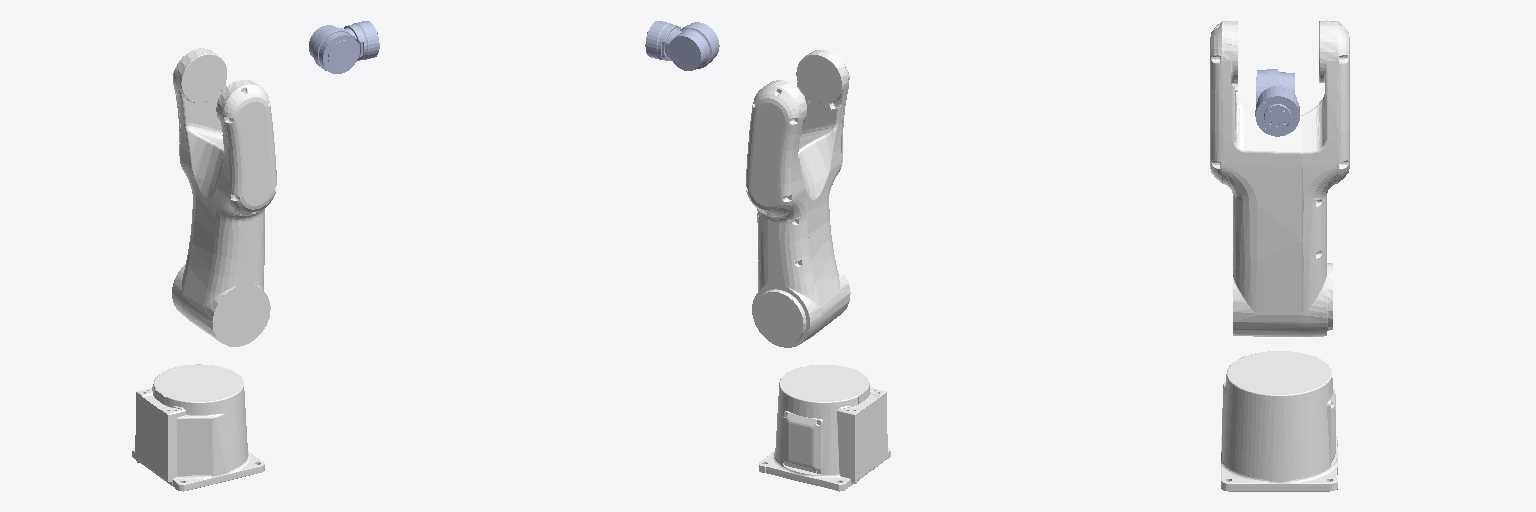
URDF robot description (LR Mate-200iD7LC.SLDASM):
<robot
  name="LR Mate-200iD7LC.SLDASM">
  <link
    name="base_link">
    <inertial>
      <origin
        xyz="-0.0068267 -0.00032171 0.080423"
        rpy="0 0 0" />
      <mass
        value="4.8533E-10" />
      <inertia
        ixx="2.1987E-12"
        ixy="-1.185E-14"
        ixz="1.4301E-14"
        iyy="2.3829E-12"
        iyz="-3.0601E-15"
        izz="2.2801E-12" />
    </inertial>
    <visual>
      <origin
        xyz="0 0 0"
        rpy="0 0 0" />
      <geometry>
        <mesh
          filename="package://LR Mate-200iD7LC.SLDASM/meshes/base_link.stl" />
      </geometry>
      <material
        name="">
        <color
          rgba="1 1 1 1" />
      </material>
    </visual>
    <collision>
      <origin
        xyz="0 0 0"
        rpy="0 0 0" />
      <geometry>
        <mesh
          filename="package://LR Mate-200iD7LC.SLDASM/meshes/base_link.stl" />
      </geometry>
    </collision>
  </link>
  <link
    name="link_1">
    <inertial>
      <origin
        xyz="-5.6272E-17 1.5421E-17 -0.169"
        rpy="0 0 0" />
      <mass
        value="0" />
      <inertia
        ixx="0"
        ixy="0"
        ixz="0"
        iyy="0"
        iyz="0"
        izz="0" />
    </inertial>
    <visual>
      <origin
        xyz="0 0 0"
        rpy="0 0 0" />
      <geometry>
        <mesh
          filename="package://LR Mate-200iD7LC.SLDASM/meshes/link_1.stl" />
      </geometry>
      <material
        name="">
        <color
          rgba="1 1 1 1" />
      </material>
    </visual>
    <collision>
      <origin
        xyz="0 0 0"
        rpy="0 0 0" />
      <geometry>
        <mesh
          filename="package://LR Mate-200iD7LC.SLDASM/meshes/link_1.stl" />
      </geometry>
    </collision>
  </link>
  <joint
    name="joint_1"
    type="revolute">
    <origin
      xyz="0 0 0.169"
      rpy="0 0 0" />
    <parent
      link="base_link" />
    <child
      link="link_1" />
    <axis
      xyz="0 0 1" />
    <limit
      effort="0"
      velocity="0" />
  </joint>
  <link
    name="link_2">
    <inertial>
      <origin
        xyz="0.17556 0.0015476 -0.0096684"
        rpy="0 0 0" />
      <mass
        value="7.9665E-10" />
      <inertia
        ixx="3.5822E-12"
        ixy="8.8459E-14"
        ixz="2.726E-13"
        iyy="1.7474E-11"
        iyz="-9.5863E-15"
        izz="1.957E-11" />
    </inertial>
    <visual>
      <origin
        xyz="0 0 0"
        rpy="0 0 0" />
      <geometry>
        <mesh
          filename="package://LR Mate-200iD7LC.SLDASM/meshes/link_2.stl" />
      </geometry>
      <material
        name="">
        <color
          rgba="1 1 1 1" />
      </material>
    </visual>
    <collision>
      <origin
        xyz="0 0 0"
        rpy="0 0 0" />
      <geometry>
        <mesh
          filename="package://LR Mate-200iD7LC.SLDASM/meshes/link_2.stl" />
      </geometry>
    </collision>
  </link>
  <joint
    name="joint_2"
    type="revolute">
    <origin
      xyz="0.05 0.001 0.1601"
      rpy="0 -1.5708 0" />
    <parent
      link="link_1" />
    <child
      link="link_2" />
    <axis
      xyz="0 -1 0" />
    <limit
      effort="0"
      velocity="0" />
  </joint>
  <link
    name="link_3">
    <inertial>
      <origin
        xyz="0.017646 0.0082385 0.00068041"
        rpy="0 0 0" />
      <mass
        value="2.3943E-10" />
      <inertia
        ixx="7.2607E-13"
        ixy="-7.6136E-14"
        ixz="-6.6486E-15"
        iyy="6.3347E-13"
        iyz="-4.9519E-15"
        izz="7.3283E-13" />
    </inertial>
    <visual>
      <origin
        xyz="0 0 0"
        rpy="0 0 0" />
      <geometry>
        <mesh
          filename="package://LR Mate-200iD7LC.SLDASM/meshes/link_3.stl" />
      </geometry>
      <material
        name="">
        <color
          rgba="1 1 1 1" />
      </material>
    </visual>
    <collision>
      <origin
        xyz="0 0 0"
        rpy="0 0 0" />
      <geometry>
        <mesh
          filename="package://LR Mate-200iD7LC.SLDASM/meshes/link_3.stl" />
      </geometry>
    </collision>
  </link>
  <joint
    name="joint_3"
    type="revolute">
    <origin
      xyz="0.44 -0.001 0"
      rpy="1.5708 0 0" />
    <parent
      link="link_2" />
    <child
      link="link_3" />
    <axis
      xyz="0 0 1" />
    <limit
      effort="0"
      velocity="0" />
  </joint>
  <link
    name="link_4">
    <inertial>
      <origin
        xyz="-0.0040166 -0.00028061 0.15002"
        rpy="0 0 0" />
      <mass
        value="2.8909E-10" />
      <inertia
        ixx="2.6679E-12"
        ixy="4.2268E-16"
        ixz="2.4382E-14"
        iyy="2.7121E-12"
        iyz="-6.33E-16"
        izz="4.8164E-13" />
    </inertial>
    <visual>
      <origin
        xyz="0 0 0"
        rpy="0 0 0" />
      <geometry>
        <mesh
          filename="package://LR Mate-200iD7LC.SLDASM/meshes/link_4.stl" />
      </geometry>
      <material
        name="">
        <color
          rgba="1 1 1 1" />
      </material>
    </visual>
    <collision>
      <origin
        xyz="0 0 0"
        rpy="0 0 0" />
      <geometry>
        <mesh
          filename="package://LR Mate-200iD7LC.SLDASM/meshes/link_4.stl" />
      </geometry>
    </collision>
  </link>
  <joint
    name="joint_4"
    type="revolute">
    <origin
      xyz="0.035055 0.0885 0.0034374"
      rpy="1.5708 1.5708 0" />
    <parent
      link="link_3" />
    <child
      link="link_4" />
    <axis
      xyz="0 0 1" />
    <limit
      effort="0"
      velocity="0" />
  </joint>
  <link
    name="link_5">
    <inertial>
      <origin
        xyz="-5.397E-05 0.022886 0.002714"
        rpy="0 0 0" />
      <mass
        value="4.9068E-11" />
      <inertia
        ixx="7.3958E-14"
        ixy="-2.2138E-17"
        ixz="1.5328E-18"
        iyy="3.3325E-14"
        iyz="3.4869E-15"
        izz="7.6276E-14" />
    </inertial>
    <visual>
      <origin
        xyz="0 0 0"
        rpy="0 0 0" />
      <geometry>
        <mesh
          filename="package://LR Mate-200iD7LC.SLDASM/meshes/link_5.stl" />
      </geometry>
      <material
        name="">
        <color
          rgba="0.79216 0.81961 0.93333 1" />
      </material>
    </visual>
    <collision>
      <origin
        xyz="0 0 0"
        rpy="0 0 0" />
      <geometry>
        <mesh
          filename="package://LR Mate-200iD7LC.SLDASM/meshes/link_5.stl" />
      </geometry>
    </collision>
  </link>
  <joint
    name="joint_5"
    type="revolute">
    <origin
      xyz="0.00075 0 0.3299"
      rpy="1.5708 0 -1.5708" />
    <parent
      link="link_4" />
    <child
      link="link_5" />
    <axis
      xyz="0 0 1" />
    <limit
      effort="0"
      velocity="0" />
  </joint>
  <link
    name="link_6">
    <inertial>
      <origin
        xyz="-0.00035712 8.6736E-19 -0.0030153"
        rpy="0 0 0" />
      <mass
        value="0.0051957" />
      <inertia
        ixx="6.7926E-07"
        ixy="-8.3001E-23"
        ixz="2.8347E-11"
        iyy="6.4938E-07"
        iyz="-4.1848E-23"
        izz="1.2977E-06" />
    </inertial>
    <visual>
      <origin
        xyz="0 0 0"
        rpy="0 0 0" />
      <geometry>
        <mesh
          filename="package://LR Mate-200iD7LC.SLDASM/meshes/link_6.stl" />
      </geometry>
      <material
        name="">
        <color
          rgba="0.79216 0.81961 0.93333 1" />
      </material>
    </visual>
    <collision>
      <origin
        xyz="0 0 0"
        rpy="0 0 0" />
      <geometry>
        <mesh
          filename="package://LR Mate-200iD7LC.SLDASM/meshes/link_6.stl" />
      </geometry>
    </collision>
  </link>
  <joint
    name="joint_6"
    type="revolute">
    <origin
      xyz="0 0.092 0"
      rpy="-1.5708 0 -1.1102E-16" />
    <parent
      link="link_5" />
    <child
      link="link_6" />
    <axis
      xyz="0 0 1" />
    <limit
      effort="0"
      velocity="0" />
  </joint>
</robot>

--- What the picture shows (computed from the rendered views, not written in the file) ---
The picture shows the robot from 3 angles, left to right: view 1: azimuth 30°, elevation 25°; view 2: azimuth 150°, elevation 25°; view 3: azimuth 270°, elevation 25°; orthographic projection.
Robot: LR Mate-200iD7LC.SLDASM — 7 links, 6 joints (6 revolute); root link base_link; default pose: all joints at 0.
Links seen in each view (by area): view 1: link_2, base_link, link_5; view 2: link_2, base_link, link_5; view 3: link_2, base_link, link_5.
Link boxes in pixels (bbox=[...]): link_2: bbox=[172, 48, 276, 346]; base_link: bbox=[132, 364, 264, 491]; link_5: bbox=[309, 21, 379, 73]; link_2: bbox=[746, 50, 850, 347]; base_link: bbox=[759, 365, 890, 491]; link_5: bbox=[645, 21, 719, 70]; link_2: bbox=[1210, 20, 1349, 336]; base_link: bbox=[1221, 351, 1337, 491]; link_5: bbox=[1255, 69, 1299, 136].
Bounding box of the posed robot: 0.4804 × 0.227 × 0.8469 m (x, y, z).
Meshes: 7 distinct files referenced, 3 mesh visuals loaded (3 binary STL); not drawn: 4 (reference not matched to a file when rendering).